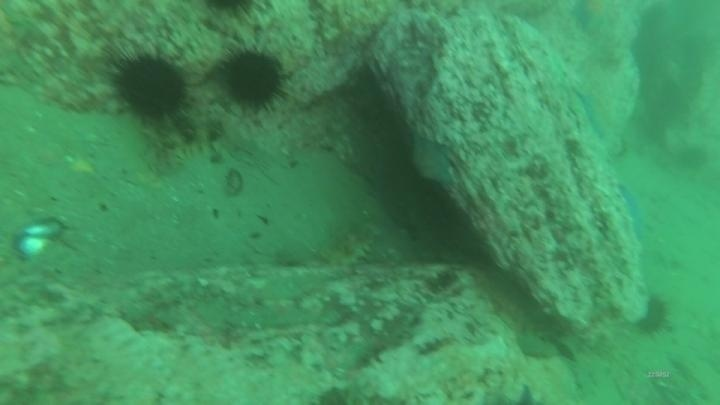echinus: (108, 48, 193, 125), (216, 43, 290, 114), (197, 0, 272, 27), (635, 293, 673, 337)
holothurian: (145, 117, 226, 175), (314, 220, 384, 273)
starfish: (407, 132, 458, 192), (574, 85, 617, 142), (616, 182, 655, 241), (568, 1, 623, 35)
